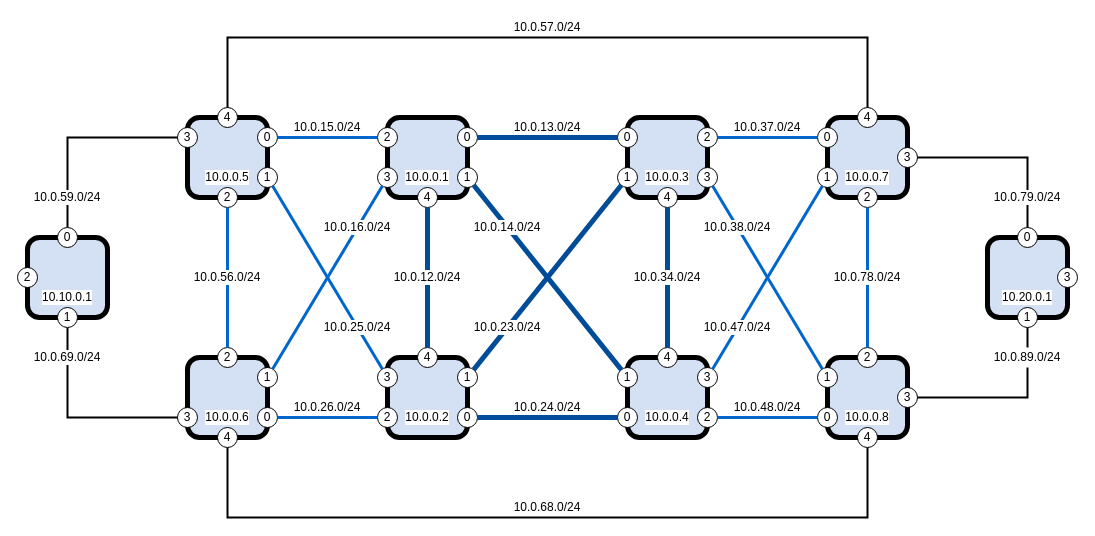
The diagram is 1095 pixels wide and 536 high, and some of its shapes have lost their labels. The box of each missing label's shape, as (x1, y1, x2, y2) in pixels:
R1: (384, 114, 470, 200)
R10: (24, 234, 110, 320)
R2: (384, 354, 470, 440)
R20: (984, 234, 1070, 320)
R3: (624, 114, 710, 200)
R4: (624, 354, 710, 440)
R5: (184, 114, 270, 200)
R6: (184, 354, 270, 440)
R7: (824, 114, 910, 200)
R8: (824, 354, 910, 440)
